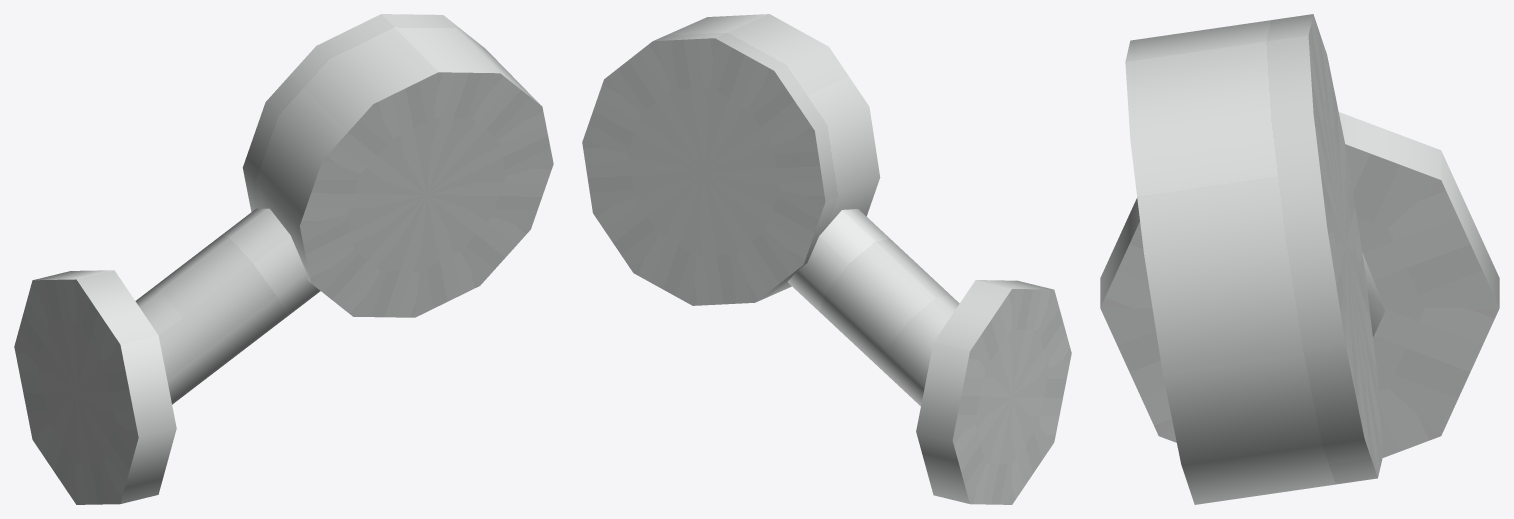
The model's file is trusssignalarm_stub_80.obj.
The picture shows the model from 3 angles, left to right: view 1: azimuth 30°, elevation 25°; view 2: azimuth 150°, elevation 25°; view 3: azimuth 270°, elevation 25°; orthographic projection. The views are drawn at different scales.
Visible parts, largest first — view 1: trusssignalarm_stub_80; view 2: trusssignalarm_stub_80; view 3: trusssignalarm_stub_80.
Boxes of the visible parts, left/top/right/bottom form: trusssignalarm_stub_80: left=14, top=14, right=553, bottom=504; trusssignalarm_stub_80: left=582, top=14, right=1071, bottom=504; trusssignalarm_stub_80: left=1100, top=14, right=1499, bottom=504.
Bounding box in the file's own units: 0.7056 × 0.6426 × 0.35.
